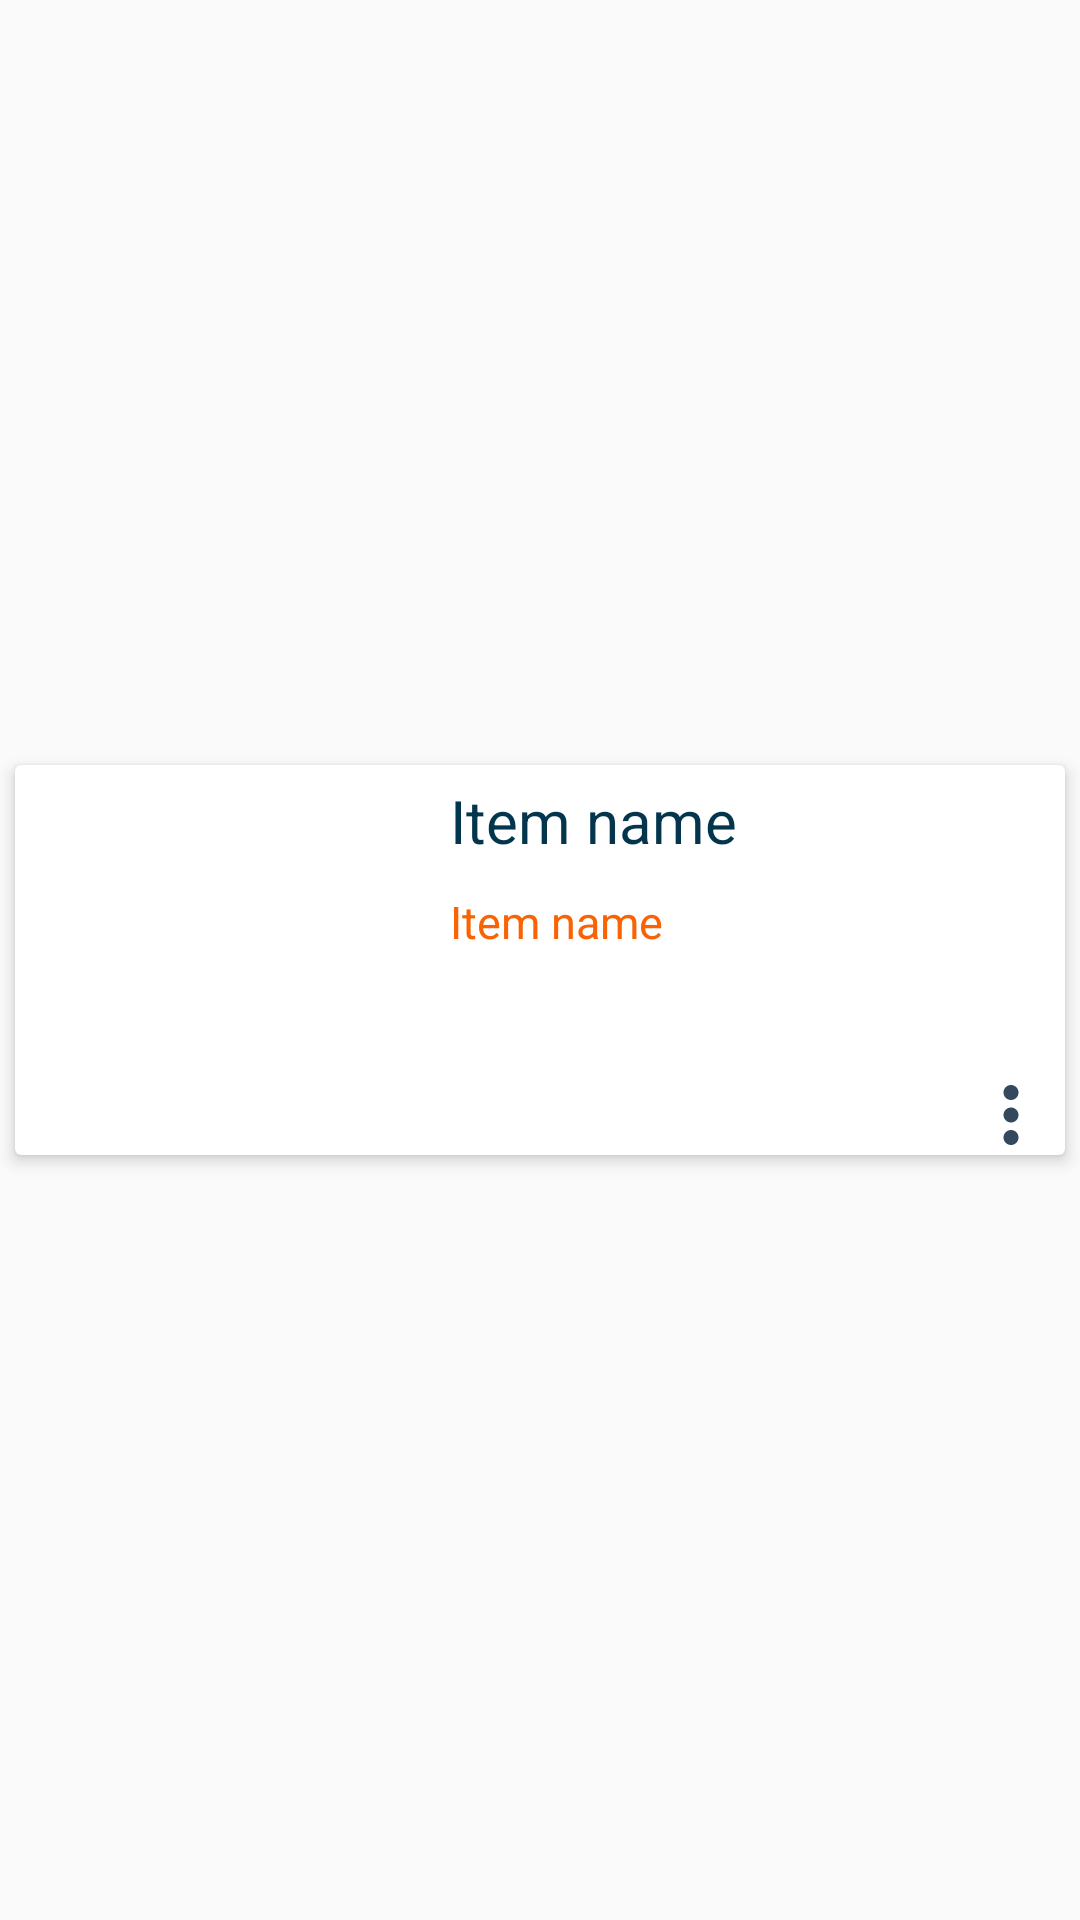

Named icons in this screenshot (1080px×1920px) and their centers, (x,y):
more: (1011,1115)
